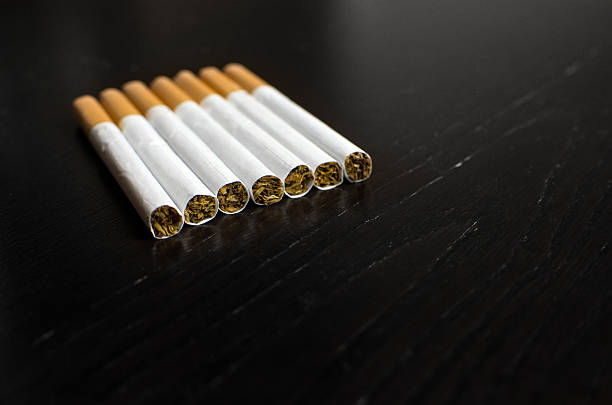cigarette: (198, 66, 345, 192), (173, 70, 316, 199), (147, 75, 285, 206), (121, 78, 251, 216), (224, 63, 373, 183), (97, 87, 220, 228), (72, 93, 184, 240)
